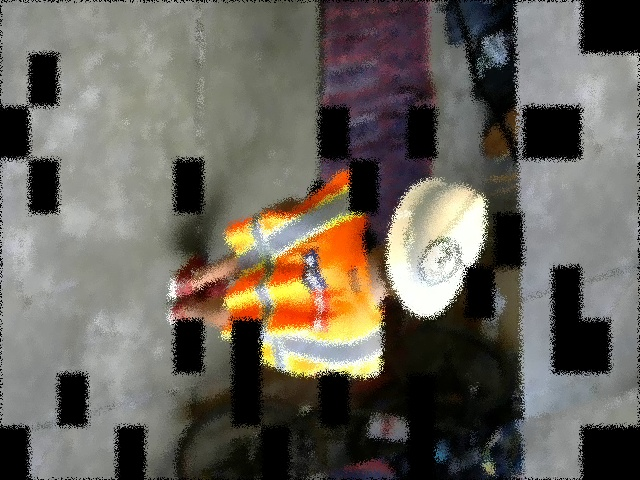three: (420, 234, 461, 287)
